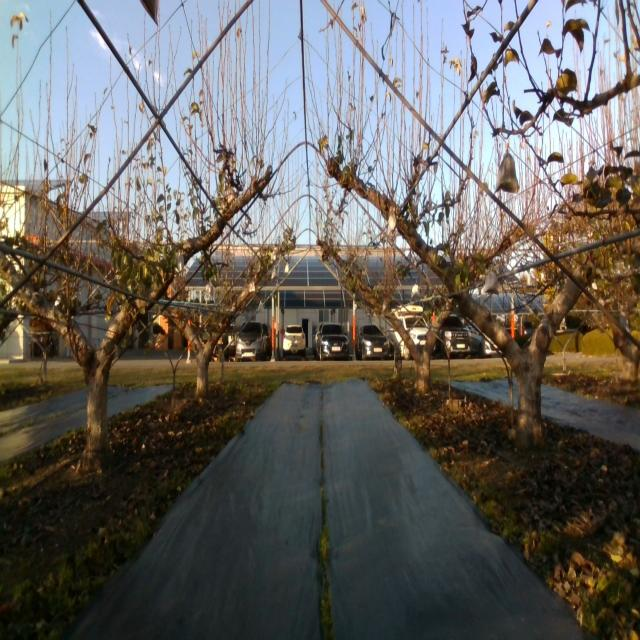pearbags: (496, 153, 520, 194), (484, 270, 499, 296)
